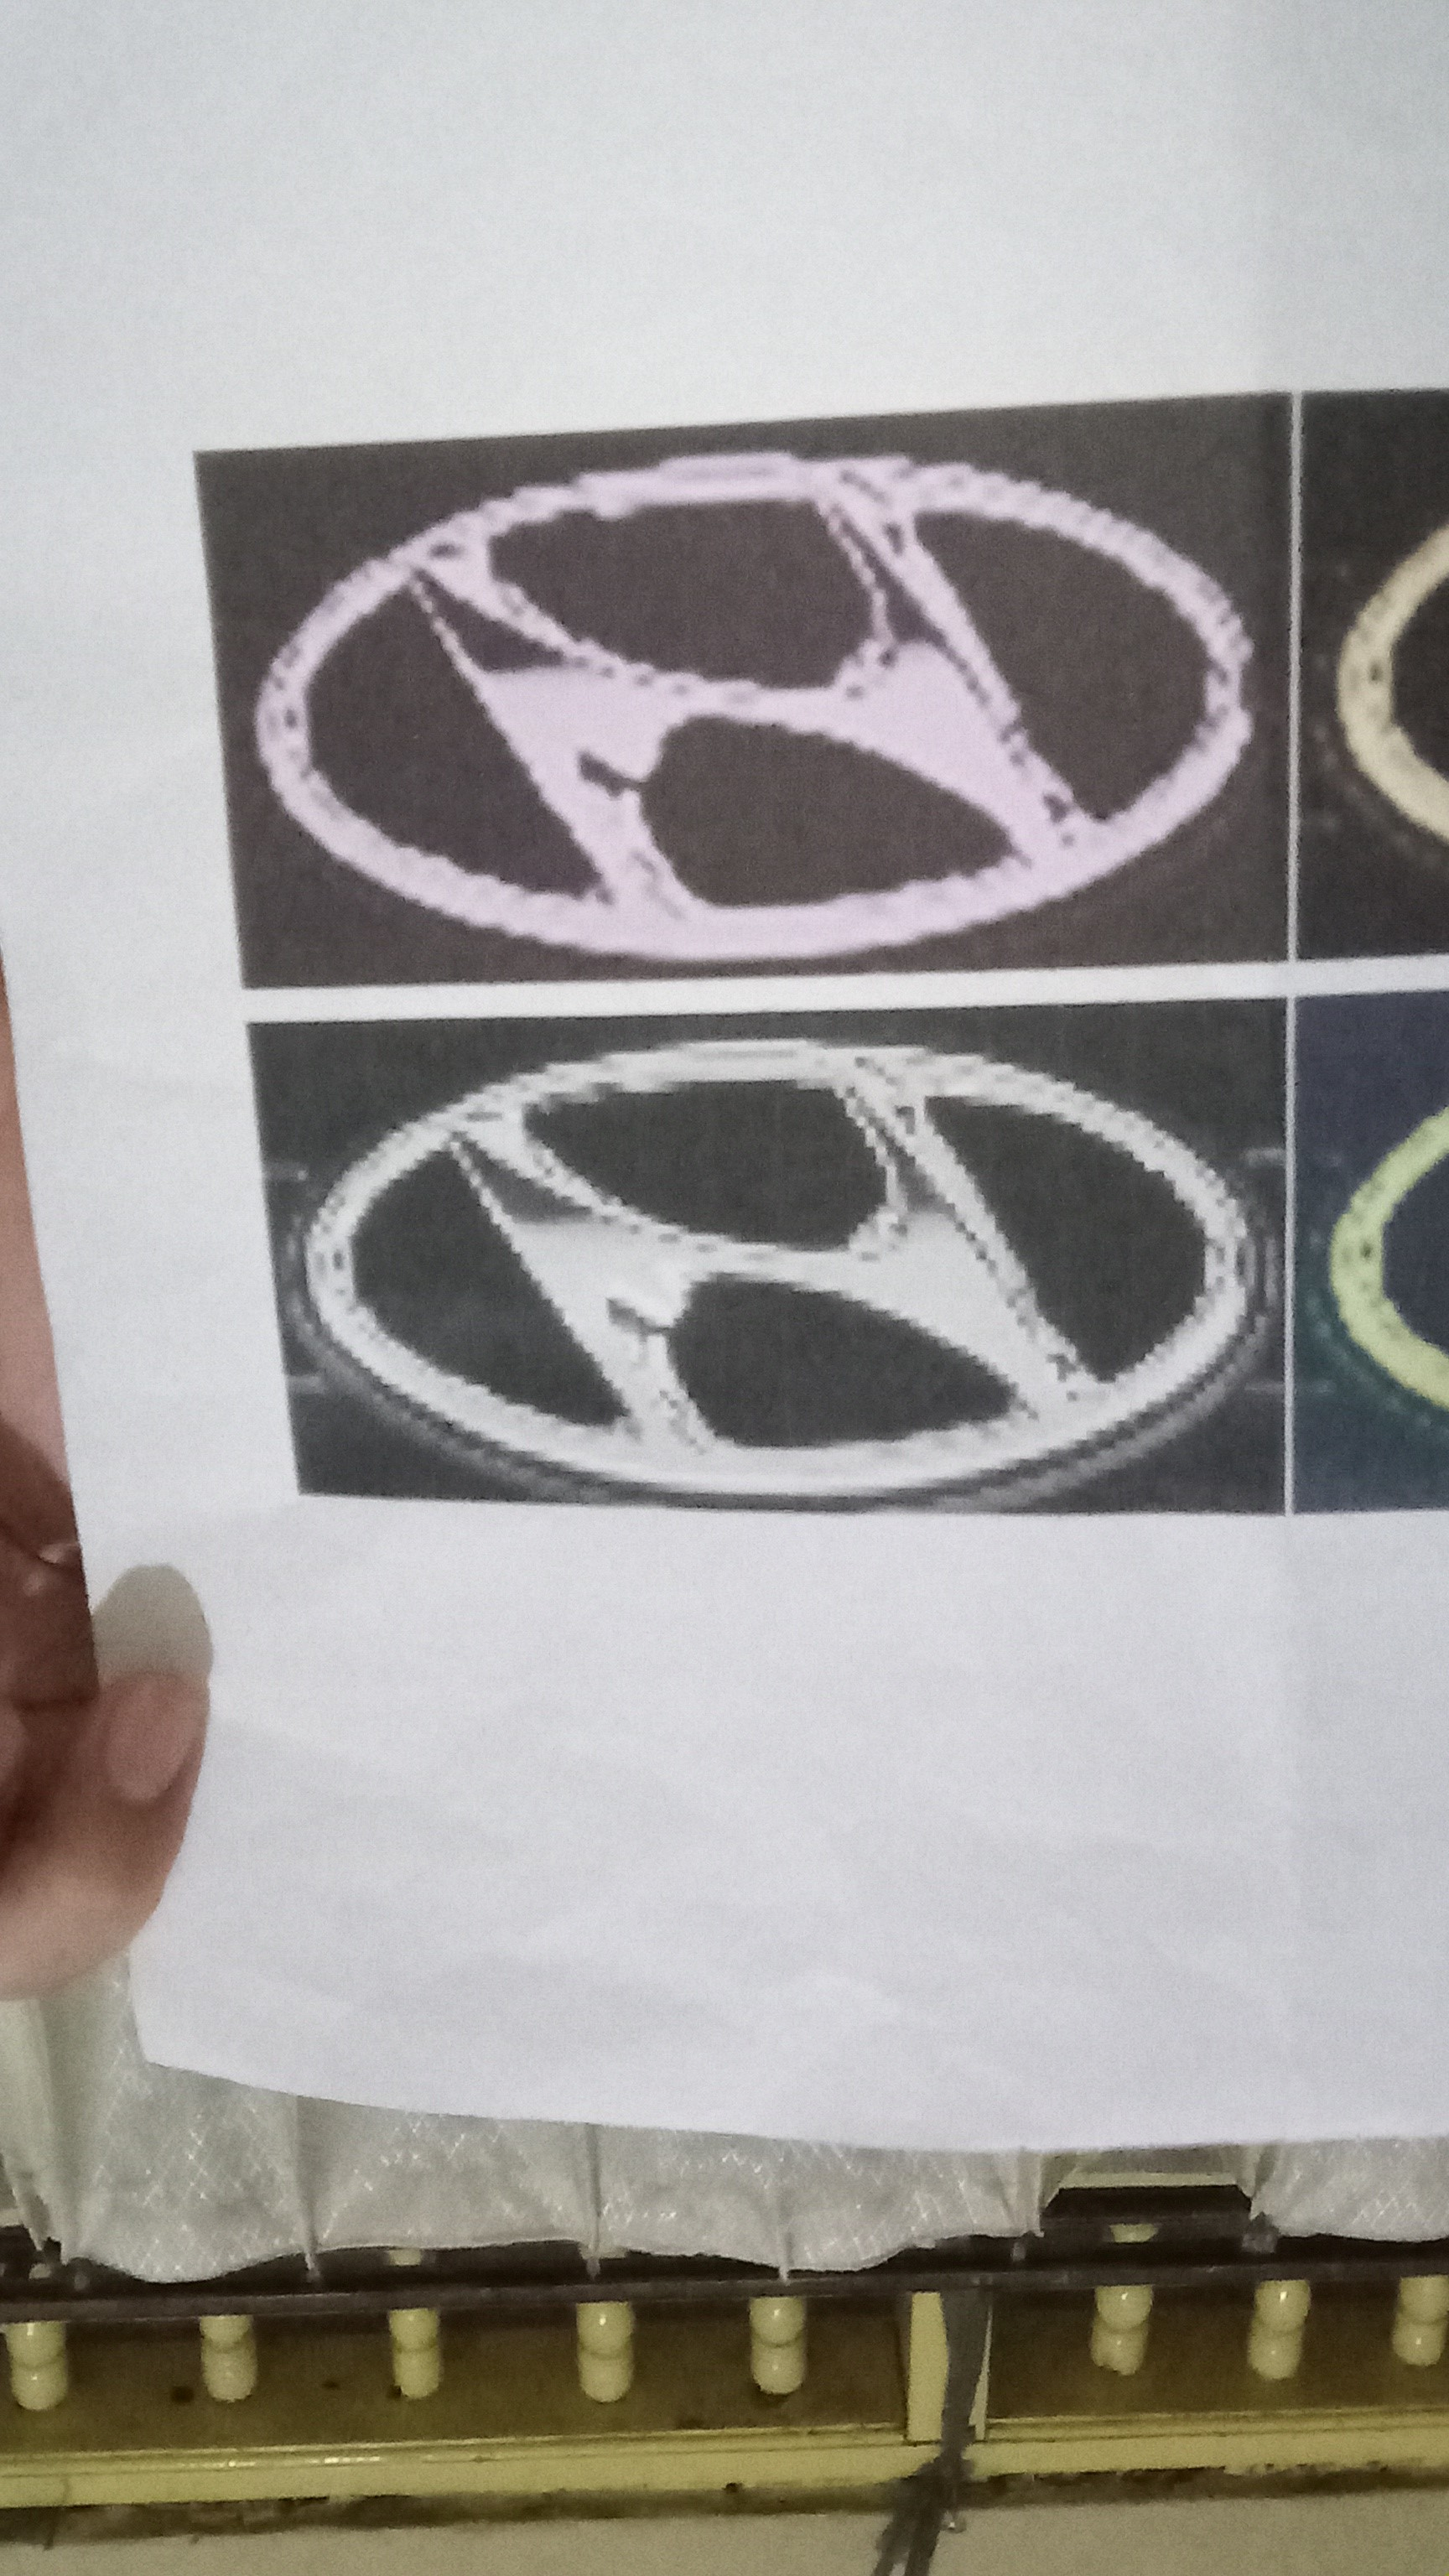Hyundai: (189, 433, 1286, 982), (264, 1021, 1272, 1514)
